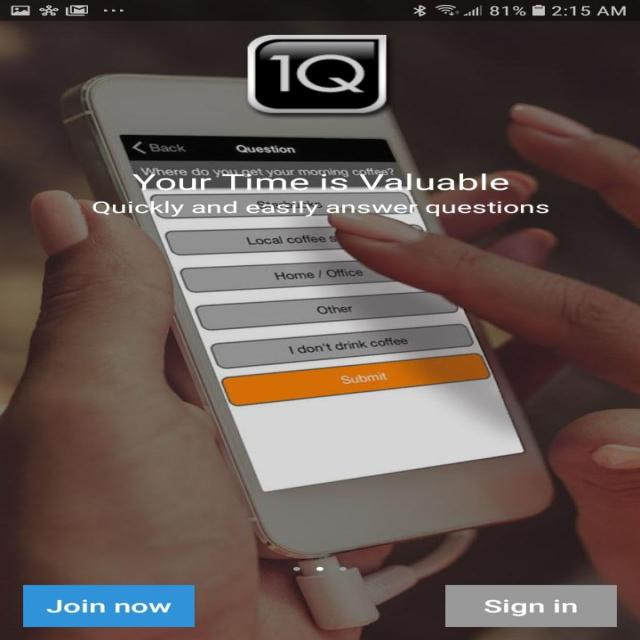BackgroundImage: (0, 21, 639, 639)
Image: (245, 35, 387, 113)
Text: (91, 173, 548, 217)
TextButton: (23, 584, 196, 627), (444, 584, 616, 626)
